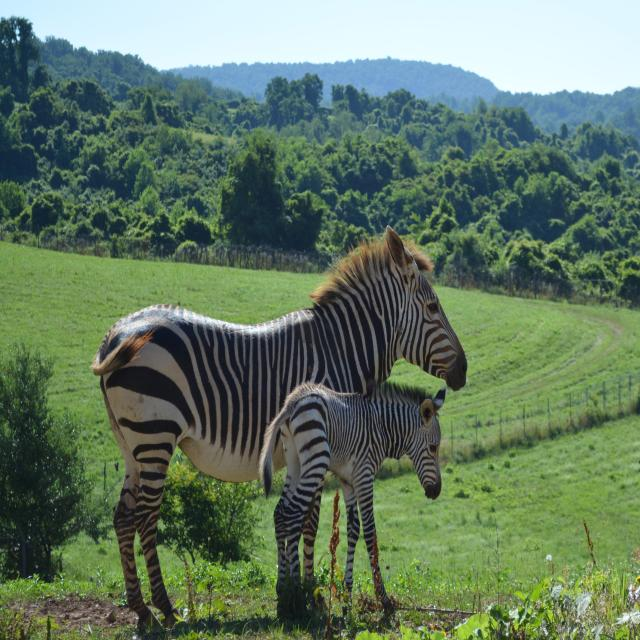zebra: (92, 226, 467, 625), (262, 382, 446, 611)
